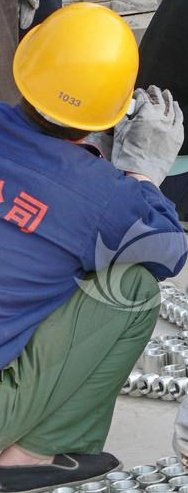boots: (0, 451, 121, 493), (155, 250, 188, 282)
gloves: (109, 84, 184, 187), (158, 378, 188, 487)
hard-hat: (12, 1, 140, 132)
vest: (0, 100, 188, 376)
